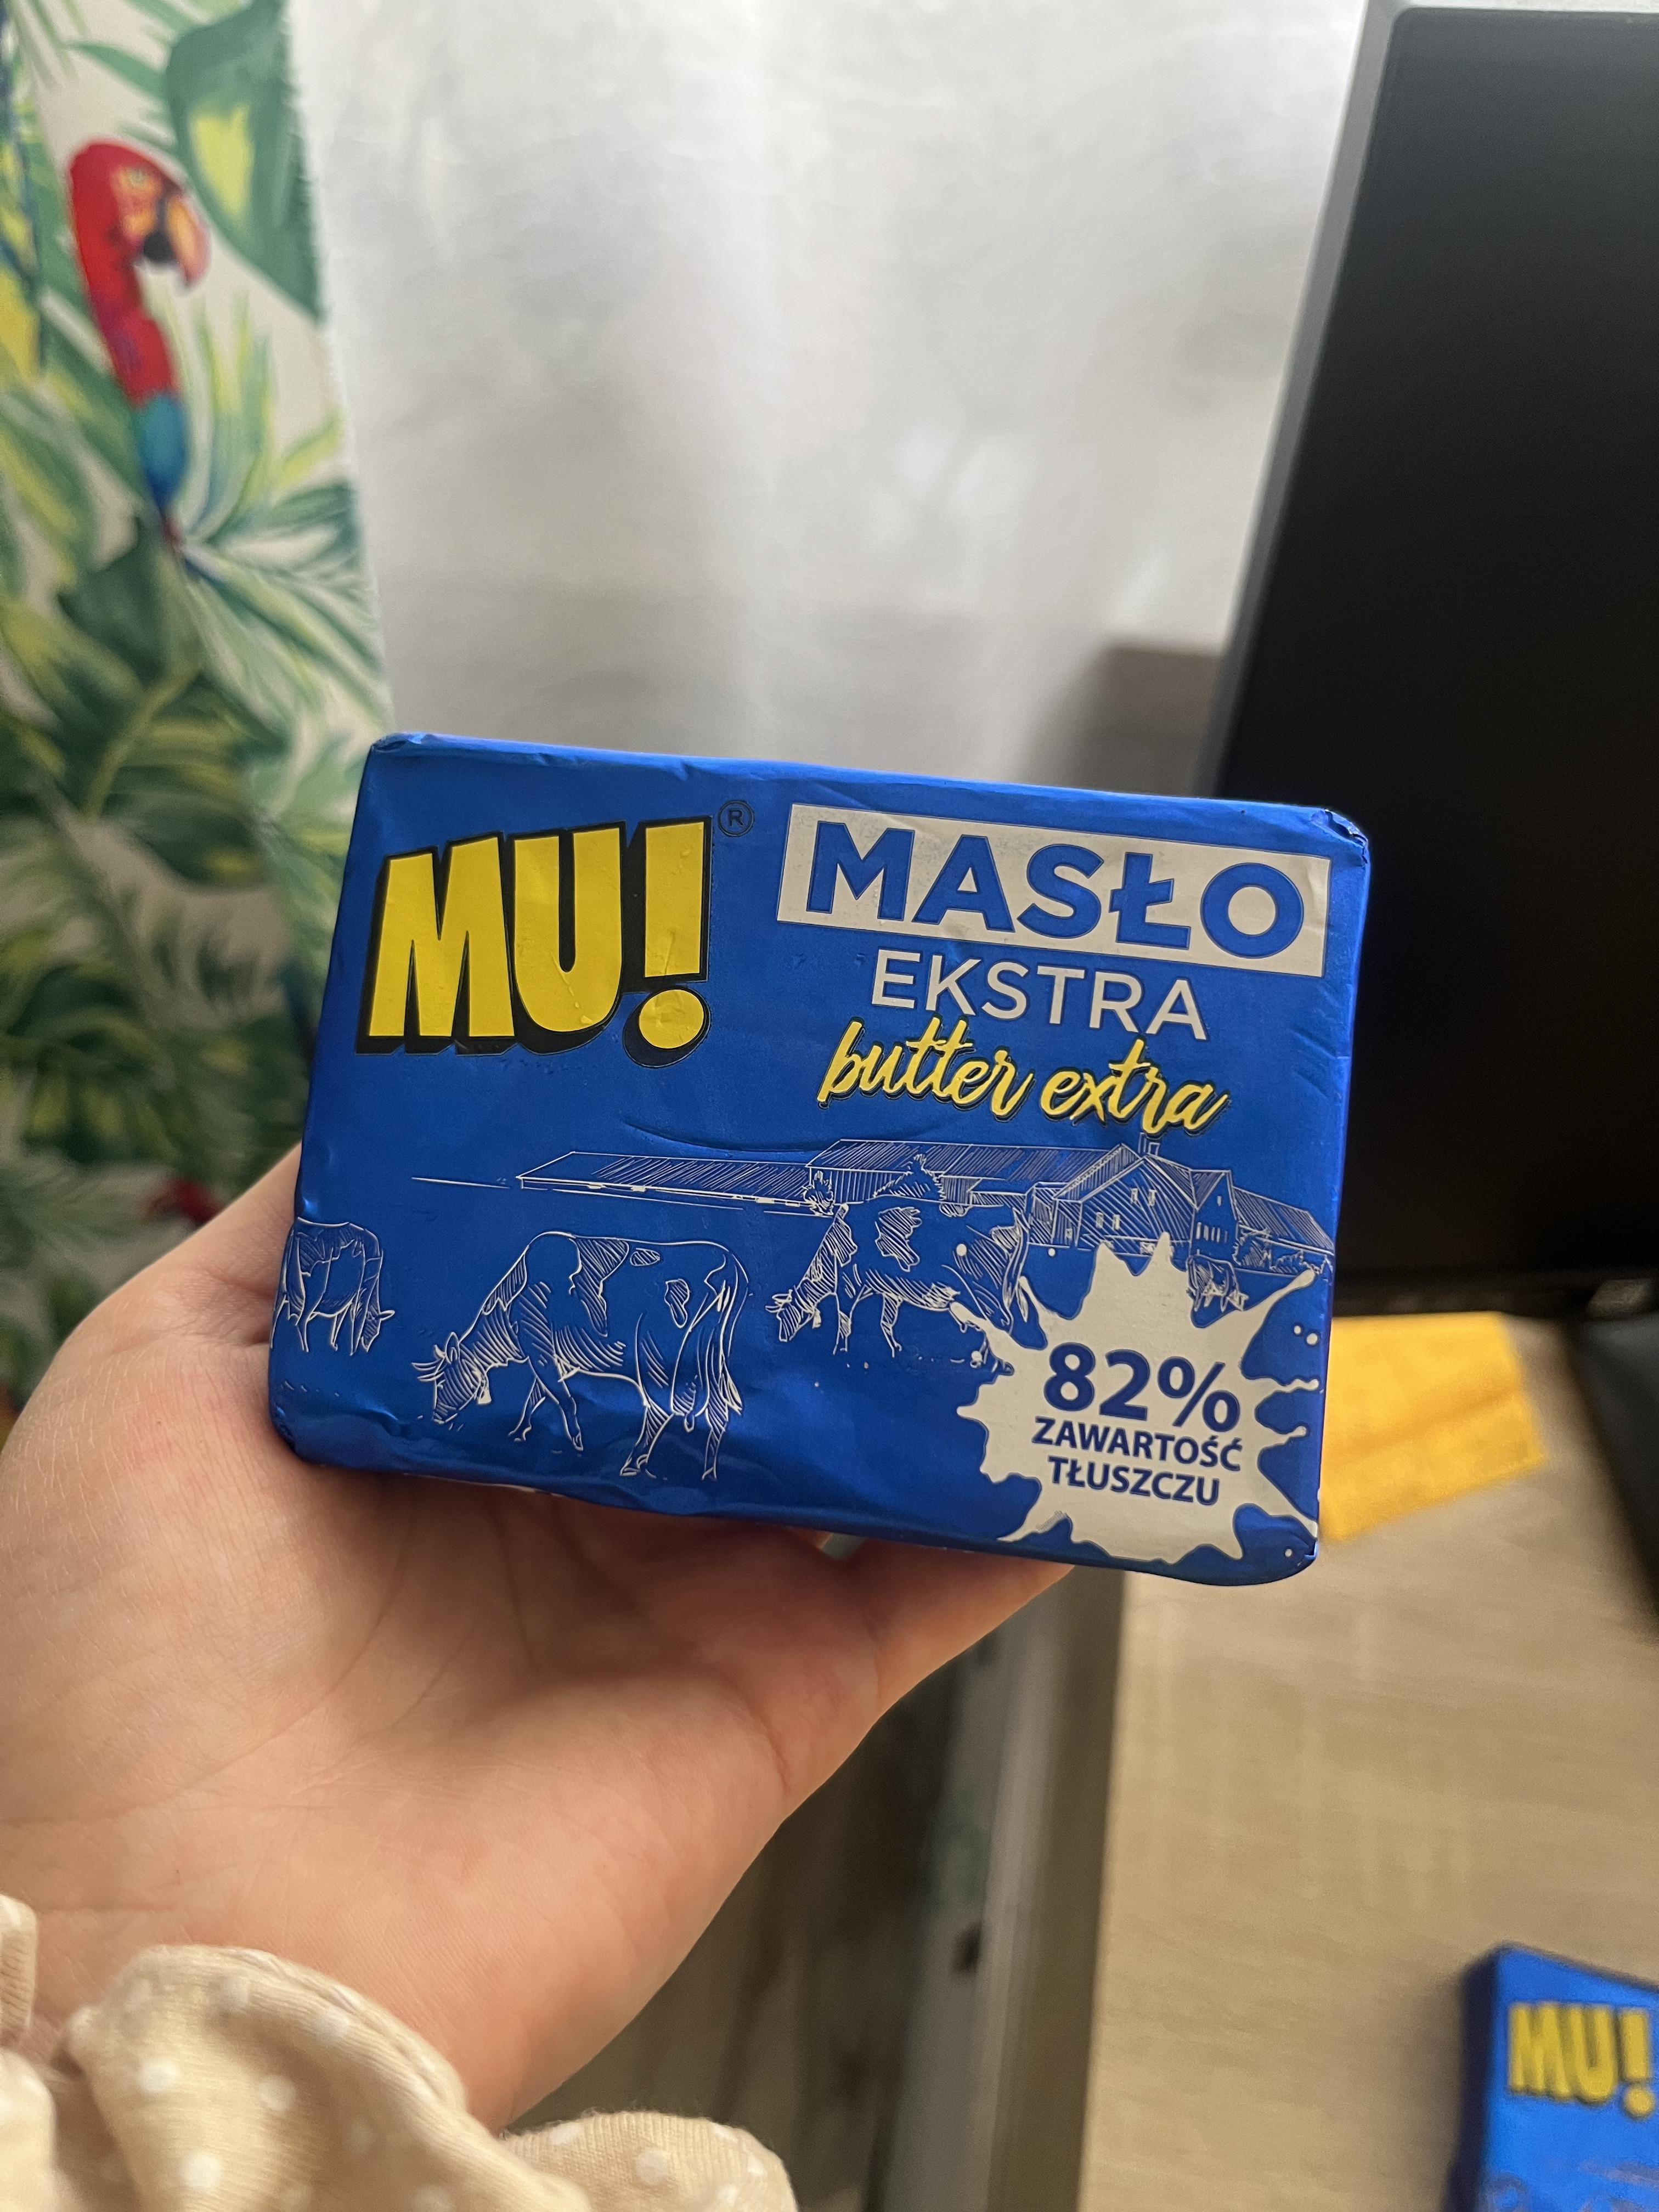Butter: (267, 712, 1384, 1629)
